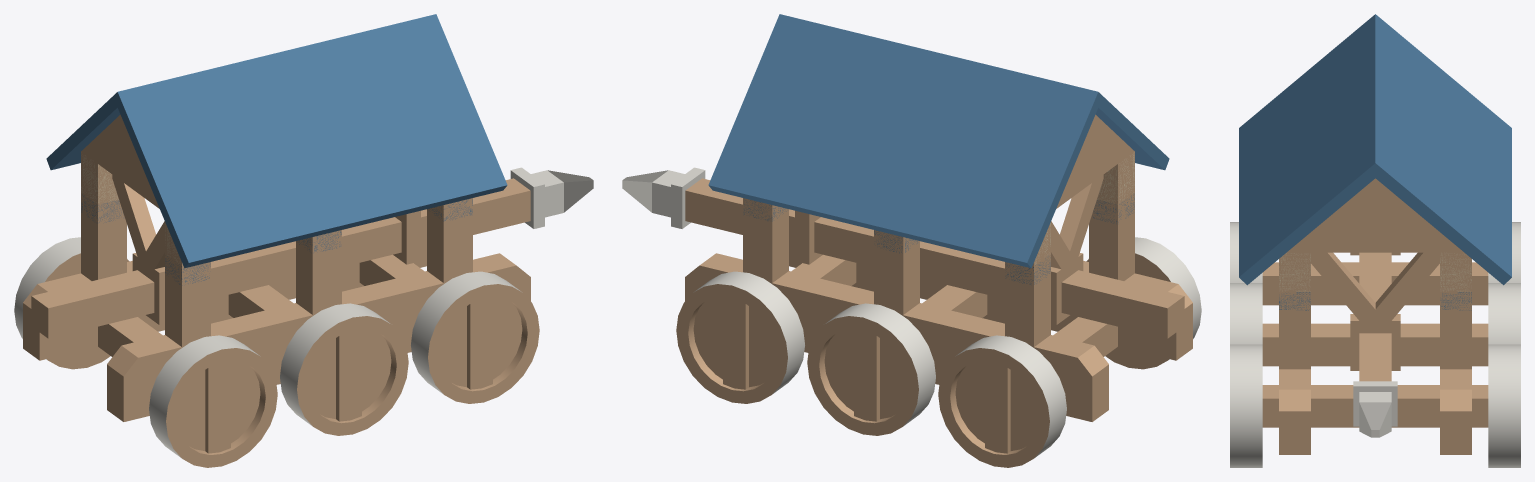
The model's file is siegeRam.obj.
3 views of the same model, side by side, from view 1: azimuth 30°, elevation 25°; view 2: azimuth 150°, elevation 25°; view 3: azimuth 270°, elevation 25° (orthographic). The views are drawn at different scales.
Parts seen in each view (by area): view 1: body 7, ram 1, wheelBackRight 9, wheelFrontRight 12, wheelMidRight 2, wheelBackLeft 9; view 2: body 7, ram 1, wheelBackLeft 9, wheelFrontLeft 12, wheelMidLeft 2, wheelBackRight 9; view 3: body 7, ram 1, wheelFrontLeft 12, wheelFrontRight 12, wheelMidLeft 2, wheelMidRight 2, wheelBackLeft 9, wheelBackRight 9.
Boxes of the visible parts, <box> form: body 7: <box>23,14,530,421</box>; ram 1: <box>31,167,593,338</box>; wheelBackRight 9: <box>149,335,277,467</box>; wheelFrontRight 12: <box>411,271,539,403</box>; wheelMidRight 2: <box>280,303,408,435</box>; wheelBackLeft 9: <box>14,237,129,369</box>; body 7: <box>685,14,1192,421</box>; ram 1: <box>622,167,1184,338</box>; wheelBackLeft 9: <box>938,335,1066,467</box>; wheelFrontLeft 12: <box>676,271,804,403</box>; wheelMidLeft 2: <box>807,303,935,435</box>; wheelBackRight 9: <box>1086,237,1201,369</box>; body 7: <box>1239,14,1511,454</box>; ram 1: <box>1353,252,1397,437</box>; wheelFrontLeft 12: <box>1488,344,1520,467</box>; wheelFrontRight 12: <box>1230,344,1262,467</box>; wheelMidLeft 2: <box>1488,283,1520,344</box>; wheelMidRight 2: <box>1230,283,1262,344</box>; wheelBackLeft 9: <box>1488,222,1520,283</box>; wheelBackRight 9: <box>1230,222,1262,283</box>.
Bounding box in the file's own units: 19.87 × 11.22 × 9.47.
